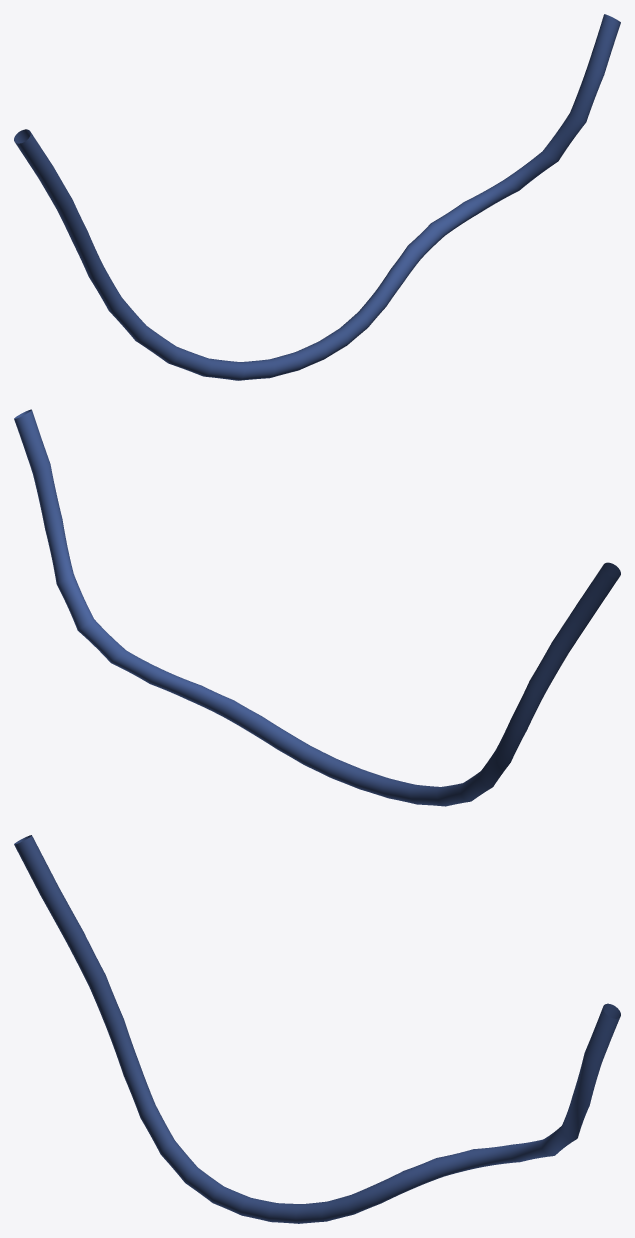
The model's file is caternarytwistcable5.fbx.
The picture shows the model from 3 angles, top to bottom: view 1: azimuth 30°, elevation 25°; view 2: azimuth 150°, elevation 25°; view 3: azimuth 330°, elevation 25°; orthographic projection. The views are drawn at different scales.
Visible parts, largest first — view 1: Catenary.002; view 2: Catenary.002; view 3: Catenary.002.
Boxes of the visible parts, x1,y1,x2,y2 form: Catenary.002: (14, 14, 620, 380); Catenary.002: (14, 409, 620, 806); Catenary.002: (14, 835, 620, 1223).
Bounding box in the file's own units: 648 × 304 × 68.97.
